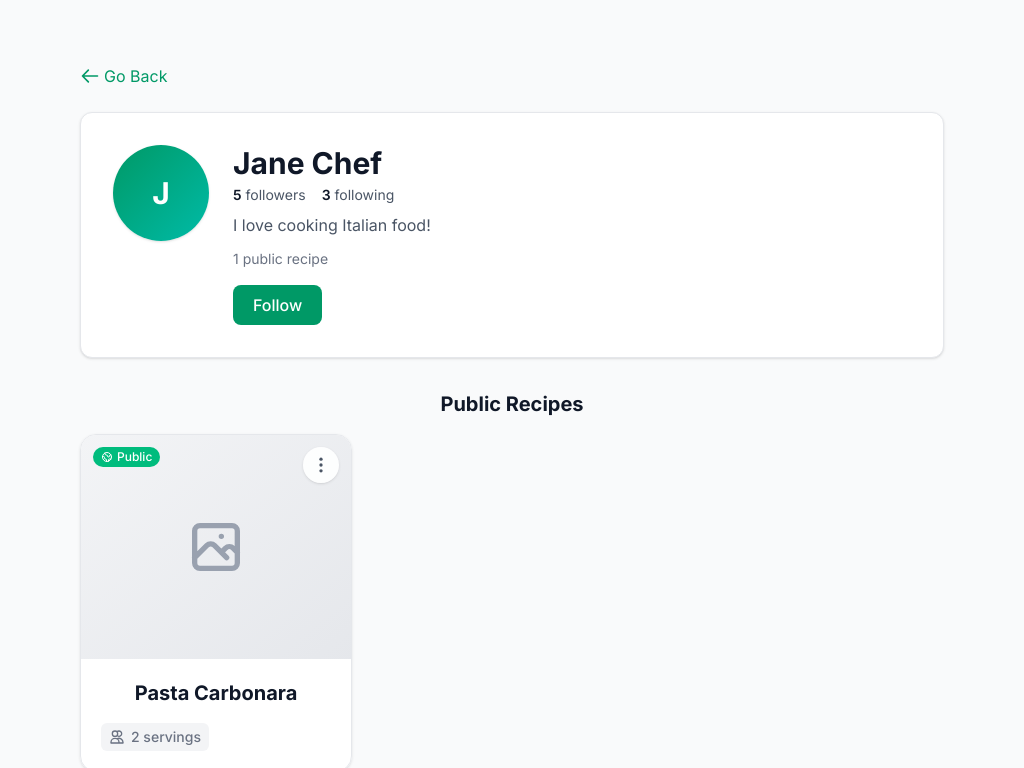
UserProfilePage › closes modal when close button is clicked
Expected: the text "5" is shown, [233,186,242,203]
Click the button "5 followers" at coordinates (269, 195), box [233,185,306,205]
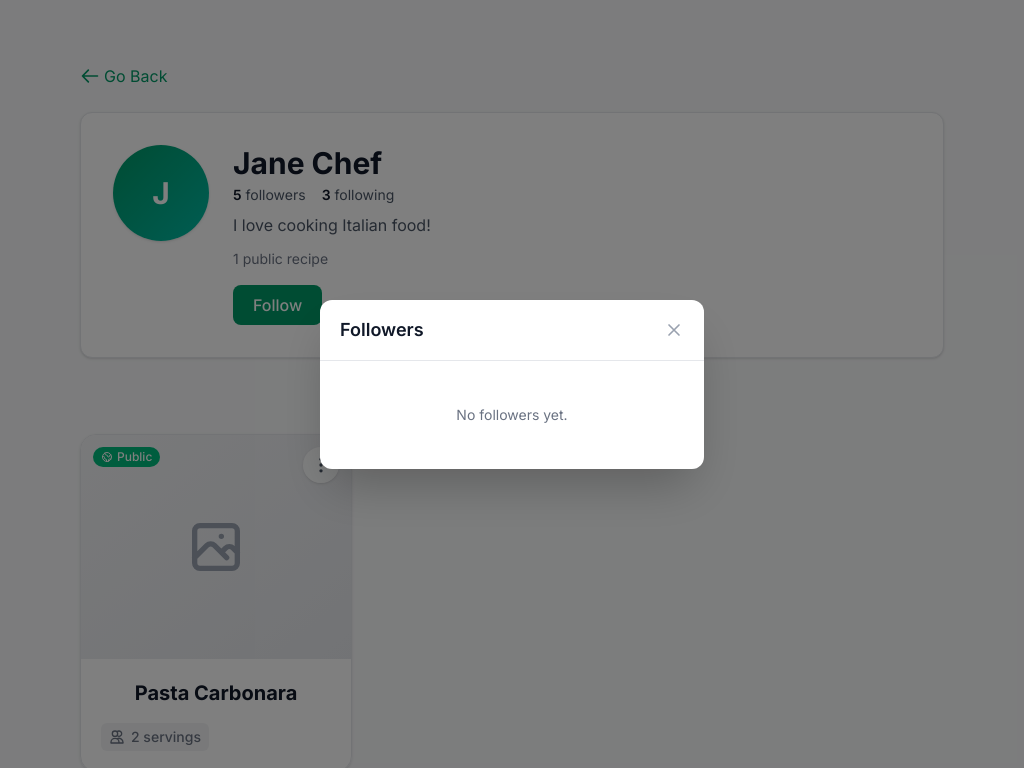
Now the dialog "Followers" is shown, box [320,300,704,468]
Click the button named "Close" at coordinates (674, 330), box [664,320,684,340]
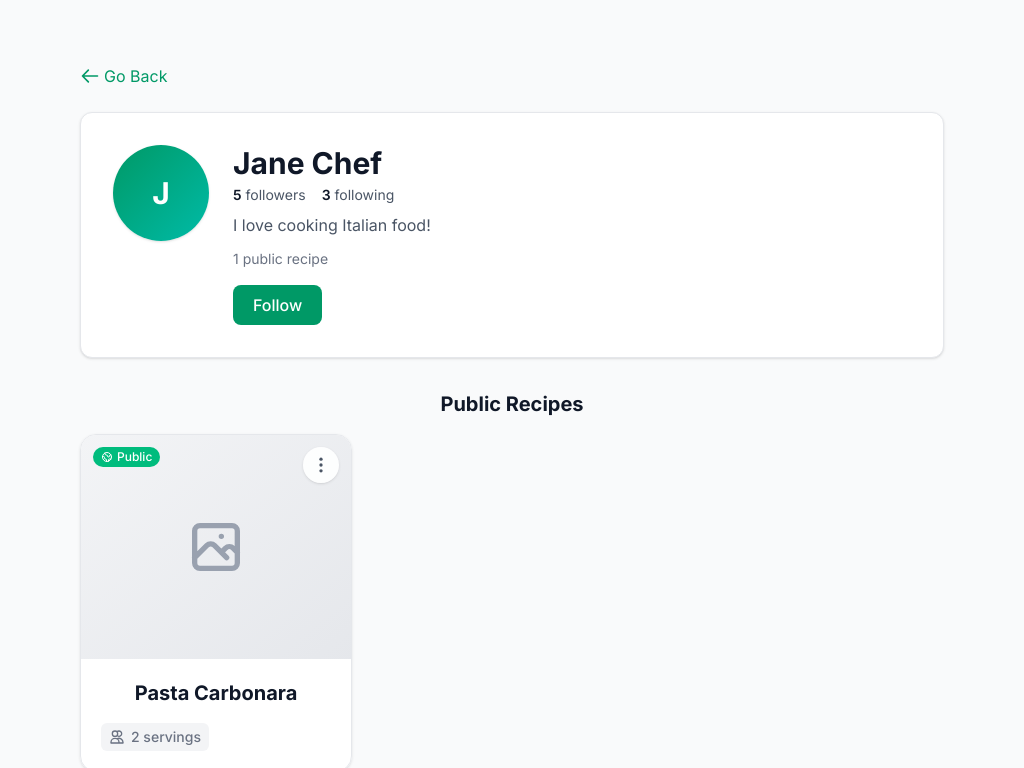
Now the dialog is gone
